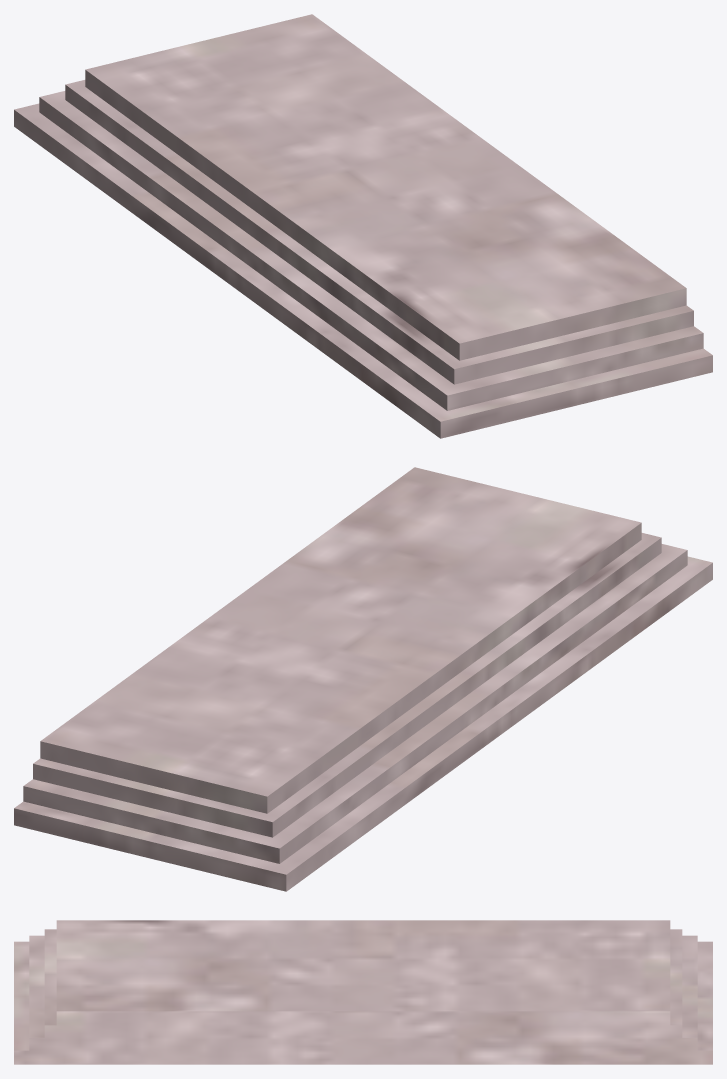
File: pasted__marble_tiles_pink_137.fbx
3 renders of one model, top to bottom at view 1: azimuth 30°, elevation 25°; view 2: azimuth 150°, elevation 25°; view 3: azimuth 270°, elevation 25°, orthographic. The views are drawn at different scales.
Visible parts, largest first — view 1: pasted__marble_tiles_pink_137; view 2: pasted__marble_tiles_pink_137; view 3: pasted__marble_tiles_pink_137.
Part boxes in pixels (x1,y1,x2,y2): pasted__marble_tiles_pink_137: (14, 14, 712, 438); pasted__marble_tiles_pink_137: (14, 467, 712, 891); pasted__marble_tiles_pink_137: (14, 920, 712, 1064).
Size of the model in its own units: 12.55 by 34.02 by 2.86.
